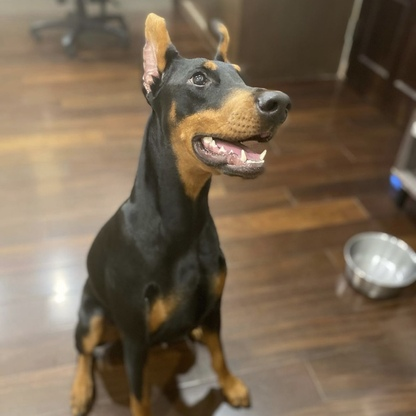doberman: (68, 8, 301, 416)
